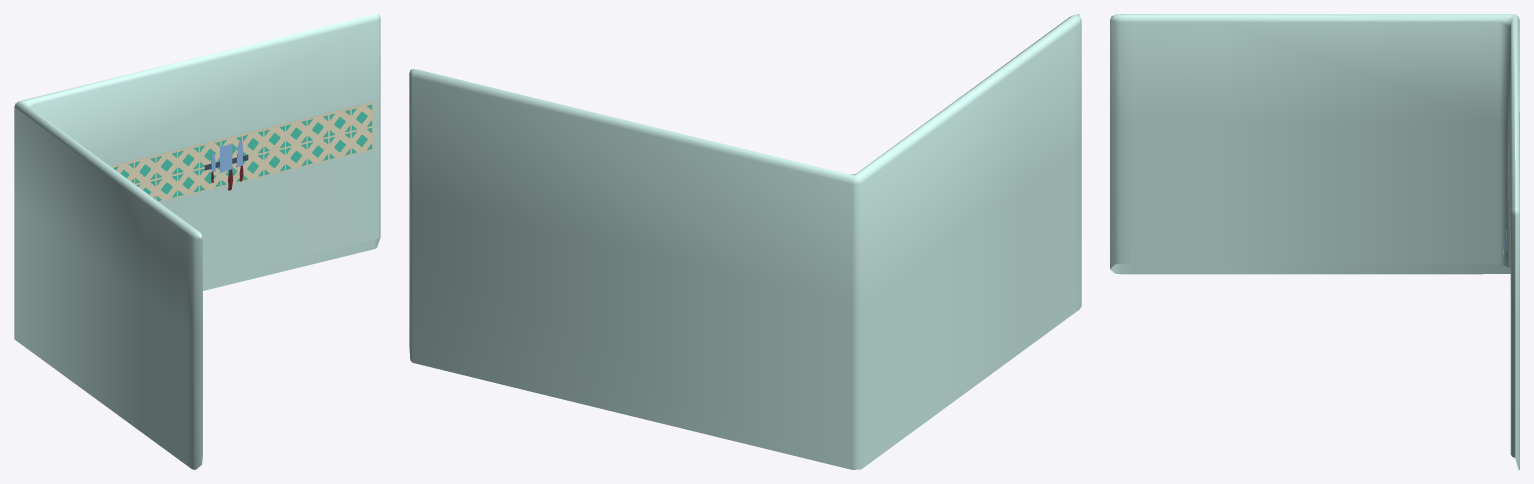
Rendered from ParedCocina.glb.
3 renders of one model, left to right at view 1: azimuth 30°, elevation 25°; view 2: azimuth 150°, elevation 25°; view 3: azimuth 270°, elevation 25°, orthographic. The views are drawn at different scales.
Parts seen in each view (by area): view 1: Pared; view 2: Pared; view 3: Pared.
Part boxes in pixels (x1=…): Pared: x1=14, y1=14, x2=380, y2=469; Pared: x1=409, y1=14, x2=1081, y2=469; Pared: x1=1110, y1=14, x2=1519, y2=469.
Size of the model in its own units: 11.4 by 7.04 by 9.96.
Materials: 5 (1 with a texture image).
